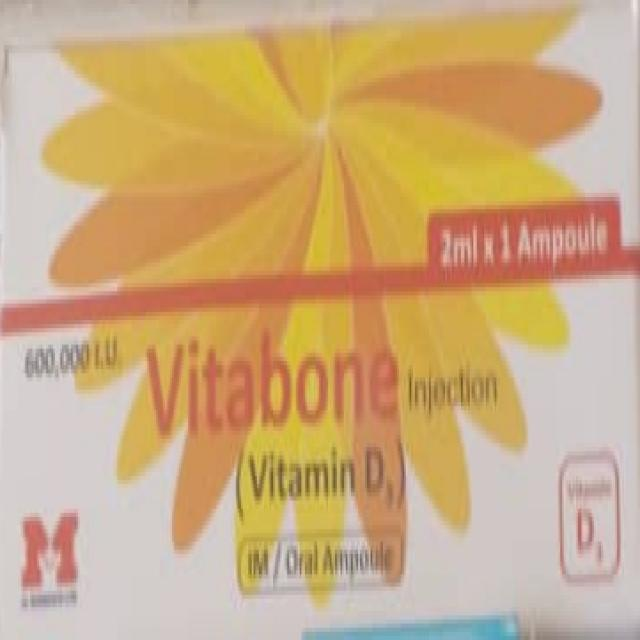drug-name: (146, 334, 408, 437)
